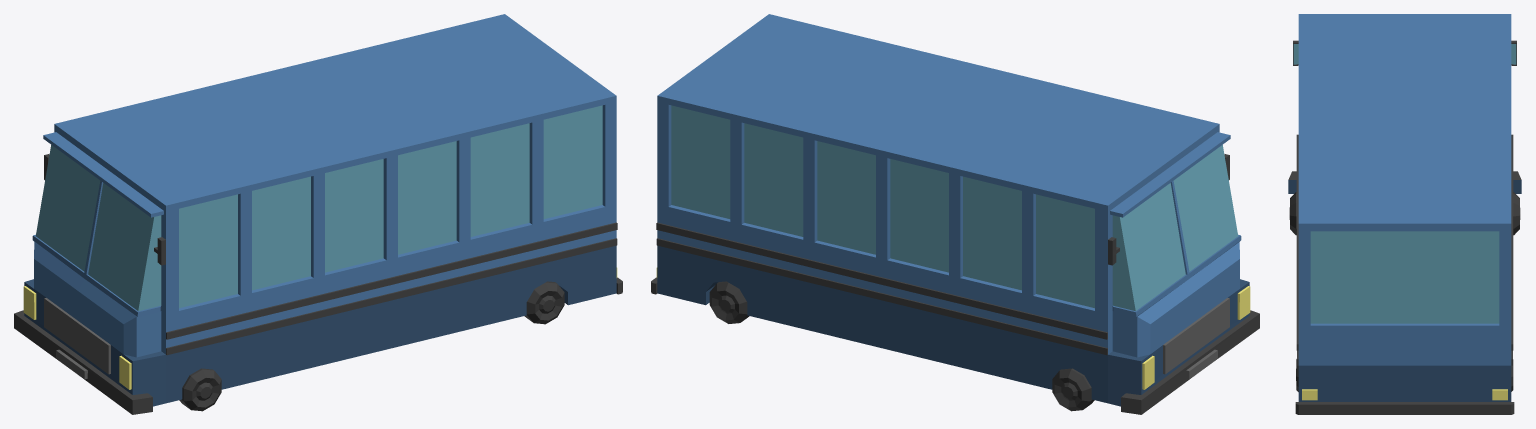
Rendered from bus.glb.
3 renders of one model, left to right at view 1: azimuth 30°, elevation 25°; view 2: azimuth 150°, elevation 25°; view 3: azimuth 270°, elevation 25°, orthographic. The views are drawn at different scales.
Visible parts, largest first — view 1: Bus, FrontWheels, BackWheels; view 2: Bus, FrontWheels, BackWheels; view 3: Bus, FrontWheels.
Part boxes in pixels (x1=…): Bus: x1=14, y1=14, x2=622, y2=414; FrontWheels: x1=179, y1=368, x2=221, y2=411; BackWheels: x1=524, y1=281, x2=564, y2=324; Bus: x1=651, y1=14, x2=1259, y2=414; FrontWheels: x1=1052, y1=368, x2=1094, y2=411; BackWheels: x1=709, y1=281, x2=749, y2=323; Bus: x1=1288, y1=14, x2=1521, y2=414; FrontWheels: x1=1289, y1=192, x2=1520, y2=235.
Bounding box in the file's own units: 4.09 × 1.68 × 1.74.
